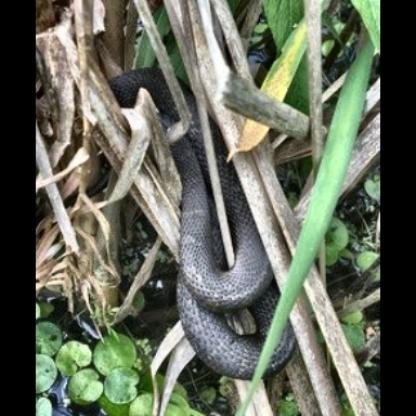Snake: (122, 5, 349, 404)
